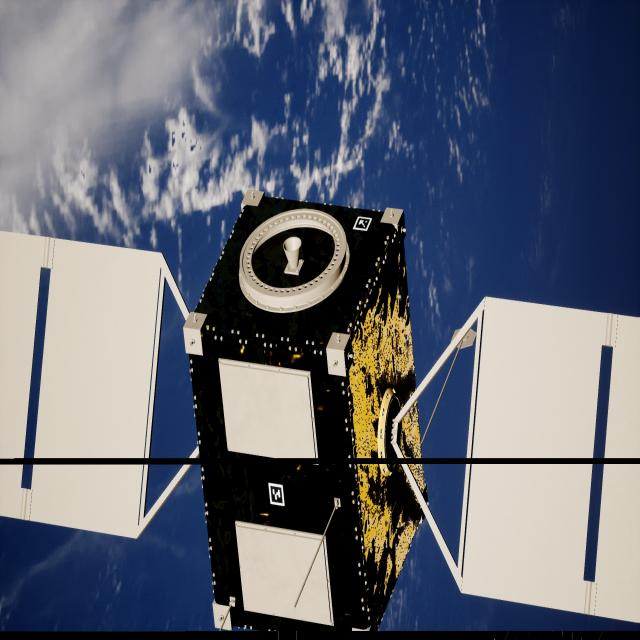medium_debris: (0, 195, 640, 629)
